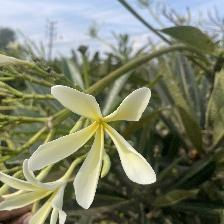champaka: (30, 80, 166, 215)
